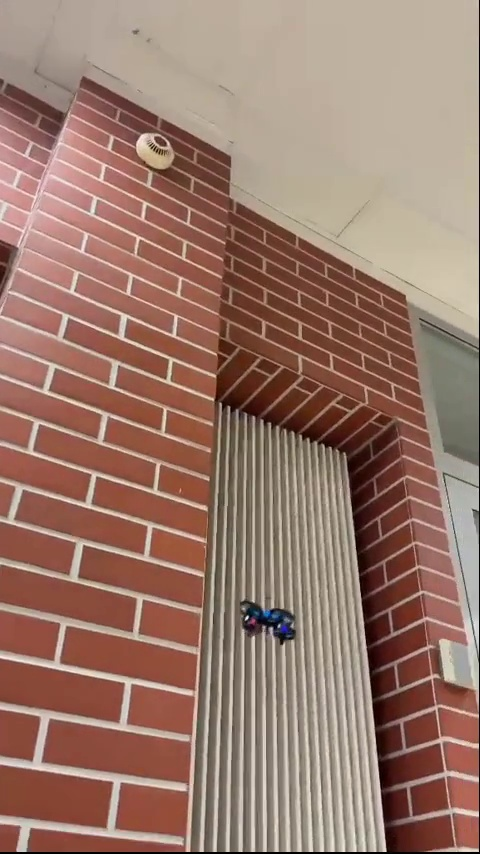drone: (235, 600, 297, 643)
